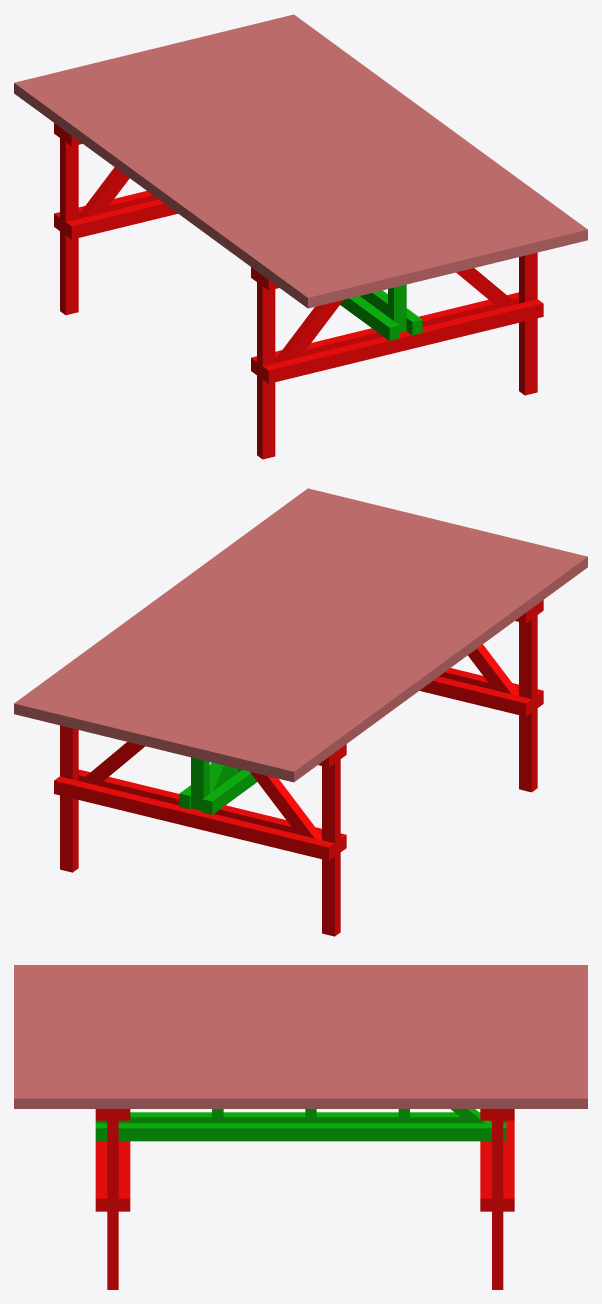
Rendered from result.glb.
3 views of the same model, one above another, from view 1: azimuth 30°, elevation 25°; view 2: azimuth 150°, elevation 25°; view 3: azimuth 270°, elevation 25° (orthographic). The views are drawn at different scales.
Parts seen in each view (by area): view 1: aeb44bef-e41d-4bb6-ac45-943bf6f88baf__Box, 63310785-0b58-4fd6-947a-39857a115862__sideH, 697070af-9791-42a9-b45a-fe0f10a3fb81__undefined, e3c7e50e-e113-4ba7-b3e1-be9a5e9cfe26__undefined, 5a7acea8-c3d7-41c4-81a9-ebc37be44805__undefined, fb50b64e-dc88-4d35-b654-910776bb4843__undefined, c672cb12-ad4d-4d6c-8a43-4502285569eb__undefined, 228635d0-86bc-4323-96c0-7c60ba54a405__undefined, 68a7d9eb-bd6e-47cb-a385-188b744c878a__undefined, 886ae96c-1cc5-47a7-92fb-c9389c6d352c__undefined, d71bcc21-e5c7-45b6-9543-761f55149ec9__undefined, f94945e7-11b1-46d6-90fb-3d92f284fb40__undefined (+23 smaller); view 2: aeb44bef-e41d-4bb6-ac45-943bf6f88baf__Box, eb831f24-f2d0-408f-a068-57c220f7e6ad__undefined, fb50b64e-dc88-4d35-b654-910776bb4843__undefined, c672cb12-ad4d-4d6c-8a43-4502285569eb__undefined, 697070af-9791-42a9-b45a-fe0f10a3fb81__undefined, 5a7acea8-c3d7-41c4-81a9-ebc37be44805__undefined, 228635d0-86bc-4323-96c0-7c60ba54a405__undefined, 68a7d9eb-bd6e-47cb-a385-188b744c878a__undefined, d71bcc21-e5c7-45b6-9543-761f55149ec9__undefined, e3c7e50e-e113-4ba7-b3e1-be9a5e9cfe26__undefined, 886ae96c-1cc5-47a7-92fb-c9389c6d352c__undefined, 076ed001-041d-410b-b5d6-1357cd77784a__undefined (+22 smaller); view 3: cc909cab-a128-429e-b17a-1215eba81aad__undefined, ee1541e8-0af0-4cbe-876f-b81f4b7f88cd__strutH, aeb44bef-e41d-4bb6-ac45-943bf6f88baf__Box, d71bcc21-e5c7-45b6-9543-761f55149ec9__undefined, 32a2d707-54d6-413a-9960-63d1092098af__undefined, f94945e7-11b1-46d6-90fb-3d92f284fb40__undefined, 45168859-00bd-4c8d-9c50-5196e5140c65__undefined, c672cb12-ad4d-4d6c-8a43-4502285569eb__undefined, 6f179763-ae42-46fc-8646-6b2b150e9d07__undefined, 293c0acf-f6f5-441f-a813-ae10e5043e32__undefined, 697070af-9791-42a9-b45a-fe0f10a3fb81__undefined, e3c7e50e-e113-4ba7-b3e1-be9a5e9cfe26__undefined (+18 smaller).
Boxes of the visible parts, x1=… form: aeb44bef-e41d-4bb6-ac45-943bf6f88baf__Box: x1=14, y1=79, x2=320, y2=308; 63310785-0b58-4fd6-947a-39857a115862__sideH: x1=262, y1=299, x2=543, y2=383; 697070af-9791-42a9-b45a-fe0f10a3fb81__undefined: x1=116, y1=55, x2=422, y2=283; e3c7e50e-e113-4ba7-b3e1-be9a5e9cfe26__undefined: x1=129, y1=52, x2=435, y2=280; 5a7acea8-c3d7-41c4-81a9-ebc37be44805__undefined: x1=256, y1=20, x2=562, y2=249; fb50b64e-dc88-4d35-b654-910776bb4843__undefined: x1=218, y1=30, x2=524, y2=258; c672cb12-ad4d-4d6c-8a43-4502285569eb__undefined: x1=78, y1=64, x2=384, y2=292; 228635d0-86bc-4323-96c0-7c60ba54a405__undefined: x1=167, y1=42, x2=473, y2=270; 68a7d9eb-bd6e-47cb-a385-188b744c878a__undefined: x1=180, y1=39, x2=486, y2=267; 886ae96c-1cc5-47a7-92fb-c9389c6d352c__undefined: x1=269, y1=17, x2=575, y2=246; d71bcc21-e5c7-45b6-9543-761f55149ec9__undefined: x1=27, y1=76, x2=333, y2=305; f94945e7-11b1-46d6-90fb-3d92f284fb40__undefined: x1=52, y1=70, x2=358, y2=299; aeb44bef-e41d-4bb6-ac45-943bf6f88baf__Box: x1=281, y1=553, x2=587, y2=782; eb831f24-f2d0-408f-a068-57c220f7e6ad__undefined: x1=54, y1=776, x2=334, y2=860; fb50b64e-dc88-4d35-b654-910776bb4843__undefined: x1=77, y1=504, x2=383, y2=732; c672cb12-ad4d-4d6c-8a43-4502285569eb__undefined: x1=217, y1=538, x2=523, y2=766; 697070af-9791-42a9-b45a-fe0f10a3fb81__undefined: x1=179, y1=528, x2=485, y2=757; 5a7acea8-c3d7-41c4-81a9-ebc37be44805__undefined: x1=39, y1=494, x2=345, y2=723; 228635d0-86bc-4323-96c0-7c60ba54a405__undefined: x1=128, y1=516, x2=434, y2=744; 68a7d9eb-bd6e-47cb-a385-188b744c878a__undefined: x1=115, y1=513, x2=421, y2=741; d71bcc21-e5c7-45b6-9543-761f55149ec9__undefined: x1=268, y1=550, x2=574, y2=779; e3c7e50e-e113-4ba7-b3e1-be9a5e9cfe26__undefined: x1=166, y1=525, x2=472, y2=754; 886ae96c-1cc5-47a7-92fb-c9389c6d352c__undefined: x1=26, y1=491, x2=332, y2=719; 076ed001-041d-410b-b5d6-1357cd77784a__undefined: x1=141, y1=519, x2=447, y2=748; cc909cab-a128-429e-b17a-1215eba81aad__undefined: x1=14, y1=1092, x2=587, y2=1108; ee1541e8-0af0-4cbe-876f-b81f4b7f88cd__strutH: x1=95, y1=1123, x2=506, y2=1141; aeb44bef-e41d-4bb6-ac45-943bf6f88baf__Box: x1=14, y1=965, x2=587, y2=971; d71bcc21-e5c7-45b6-9543-761f55149ec9__undefined: x1=14, y1=971, x2=587, y2=977; 32a2d707-54d6-413a-9960-63d1092098af__undefined: x1=14, y1=977, x2=587, y2=983; f94945e7-11b1-46d6-90fb-3d92f284fb40__undefined: x1=14, y1=983, x2=587, y2=989; 45168859-00bd-4c8d-9c50-5196e5140c65__undefined: x1=14, y1=989, x2=587, y2=995; c672cb12-ad4d-4d6c-8a43-4502285569eb__undefined: x1=14, y1=995, x2=587, y2=1001; 6f179763-ae42-46fc-8646-6b2b150e9d07__undefined: x1=14, y1=1001, x2=587, y2=1007; 293c0acf-f6f5-441f-a813-ae10e5043e32__undefined: x1=14, y1=1007, x2=587, y2=1013; 697070af-9791-42a9-b45a-fe0f10a3fb81__undefined: x1=14, y1=1013, x2=587, y2=1019; e3c7e50e-e113-4ba7-b3e1-be9a5e9cfe26__undefined: x1=14, y1=1019, x2=587, y2=1025.
Bounding box in the file's own units: 1100 × 740 × 2000.
